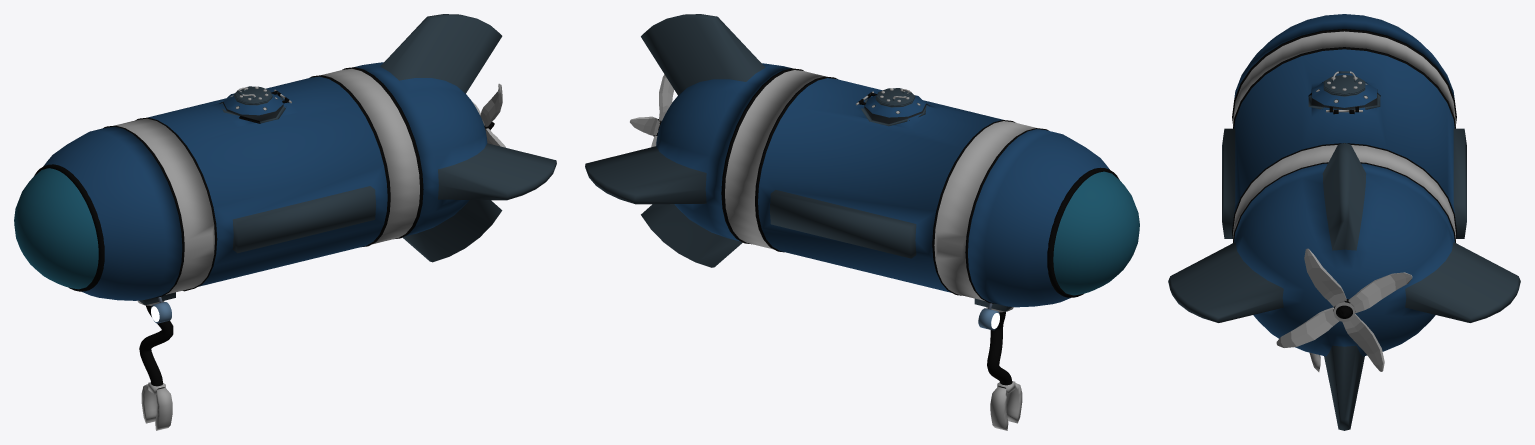
The model's file is Tier_1.glb.
3 renders of one model, left to right at view 1: azimuth 30°, elevation 25°; view 2: azimuth 150°, elevation 25°; view 3: azimuth 270°, elevation 25°, orthographic. The views are drawn at different scales.
Parts seen in each view (by area): view 1: Hull Tier 1, Claw Tier 1, Propeller Tier 1; view 2: Hull Tier 1, Claw Tier 1, Propeller Tier 1; view 3: Hull Tier 1, Propeller Tier 1.
Part boxes in pixels (x1,y1,x2,y2): Hull Tier 1: [14, 14, 556, 305]; Claw Tier 1: [139, 305, 173, 430]; Propeller Tier 1: [472, 83, 505, 147]; Hull Tier 1: [585, 14, 1139, 312]; Claw Tier 1: [987, 312, 1022, 430]; Propeller Tier 1: [630, 74, 674, 147]; Hull Tier 1: [1168, 14, 1520, 430]; Propeller Tier 1: [1276, 248, 1412, 371].
Bounding box in the file's own units: 27.96 × 18.83 × 15.84.
